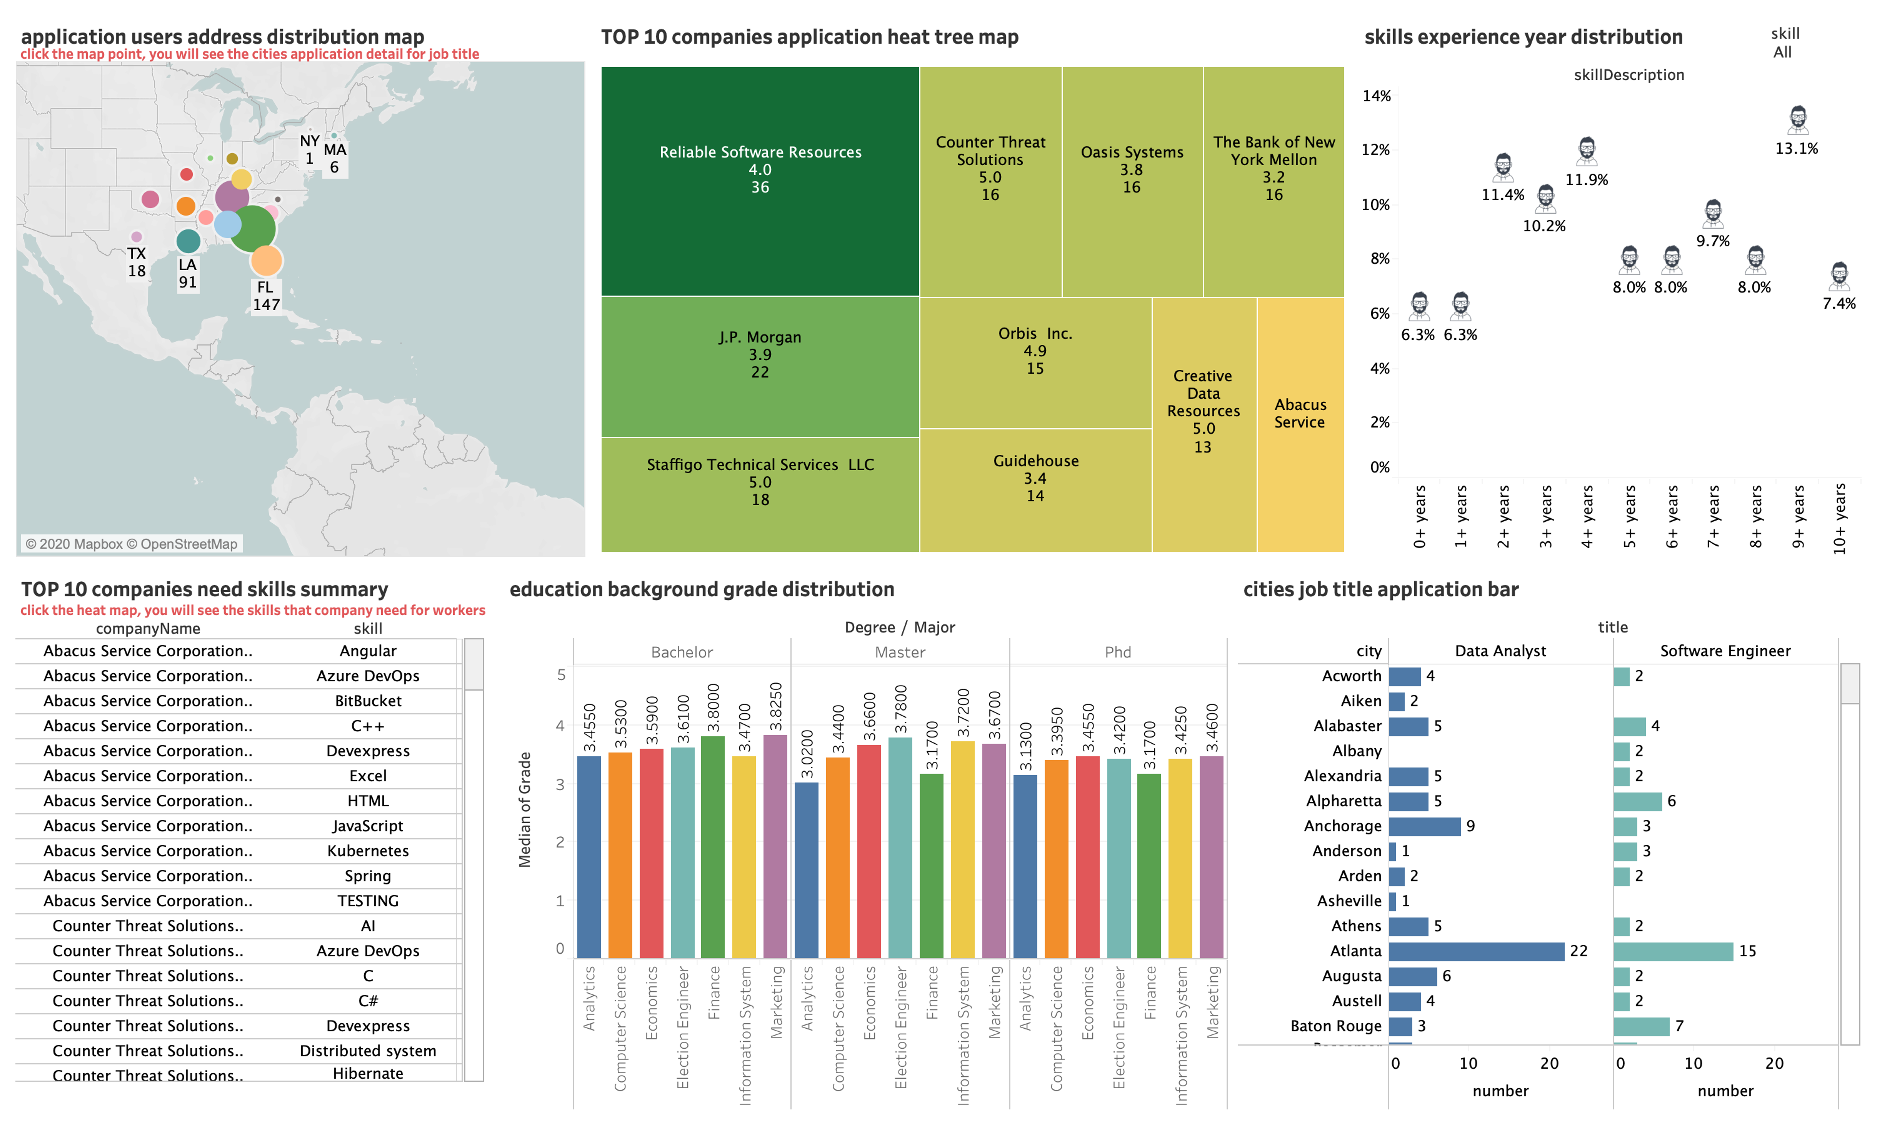

The dashboard page shown, as its layout file describes it:
{"tool":"tableau","page":{"name":"job-seeking dashboard","canvas":[1500,900],"ordinal":0},"visuals":[{"type":"worksheet","box":[0,0,1500,900]},{"type":"worksheet","param":"horz","box":[8,8,1484,884]},{"type":"worksheet","param":"horz","box":[8,8,1484,884]},{"type":"worksheet","param":"horz","box":[8,8,1484,884]},{"type":"worksheet","param":"horz","box":[8,8,1484,884]},{"type":"worksheet","box":[8,8,1484,884]},{"type":"worksheet","title":"application users address distribution map","mark":"Automatic","box":[8,8,464,442]},{"type":"worksheet","title":"TOP-10 companies application heat tree map","mark":"Automatic","box":[472,8,611,442]},{"type":"worksheet","title":"skills experience year distribution","mark":"Shape","rows":["Number of Records"],"cols":["skillDescription"],"box":[1083,8,409,442]},{"type":"worksheet","title":"skills experience year distribution","mark":"Shape","rows":["Number of Records"],"cols":["skillDescription"],"param":"[federated.0l480360tk07vj1fz2egf06vc5v8].[none:skill:nk]","box":[1412,14,76,54]},{"type":"worksheet","box":[13,22,457,42]},{"type":"worksheet","title":"TOP-10 companies need skills summary","mark":"Automatic","rows":["Calculation_588564229925376000","companyName","skill"],"box":[8,450,391,442]},{"type":"worksheet","title":"education background grade distribution","mark":"Automatic","rows":["grade"],"cols":["Degree","major"],"box":[399,450,587,442]},{"type":"worksheet","title":"cities job title application bar","mark":"Automatic","rows":["city"],"cols":["title","Number of Records"],"box":[986,450,506,442]},{"type":"worksheet","box":[13,473,434,30]}]}

Visuals, with their boxes in screenshot pixels (x1, y1, x2, y2), scaled from the page's 1500x900 canvas onto the 1877x1125 screenshot:
worksheet: (0,0,1876,1124)
worksheet: (10,10,1867,1115)
worksheet: (10,10,1867,1115)
worksheet: (10,10,1867,1115)
worksheet: (10,10,1867,1115)
worksheet: (10,10,1867,1115)
"application users address distribution map" worksheet: (10,10,591,562)
"TOP-10 companies application heat tree map" worksheet: (591,10,1355,562)
"skills experience year distribution" worksheet (Shape marks): (1355,10,1867,562)
"skills experience year distribution" worksheet (Shape marks): (1767,18,1862,85)
worksheet: (16,28,588,80)
"TOP-10 companies need skills summary" worksheet: (10,562,499,1115)
"education background grade distribution" worksheet: (499,562,1234,1115)
"cities job title application bar" worksheet: (1234,562,1867,1115)
worksheet: (16,591,559,629)
